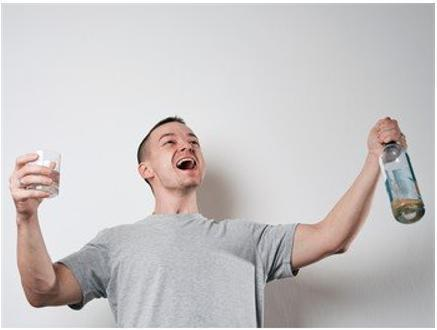Drunk: (155, 119, 203, 191)
